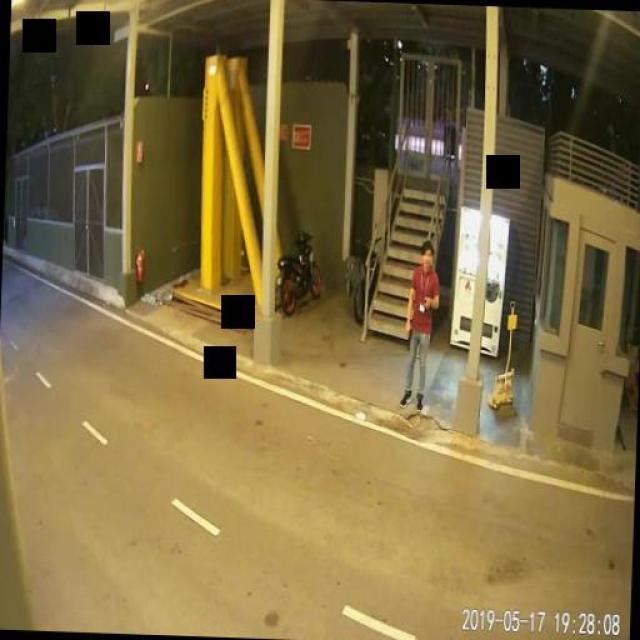gun: (401, 324, 411, 348)
